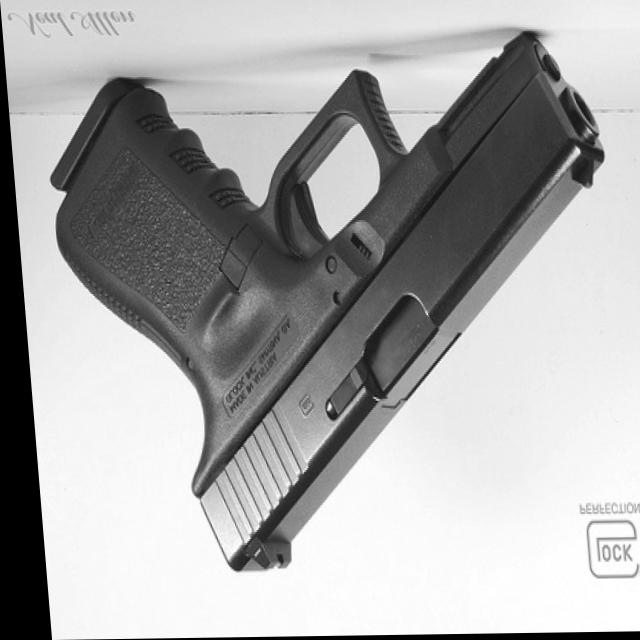handgun: (38, 32, 627, 577)
